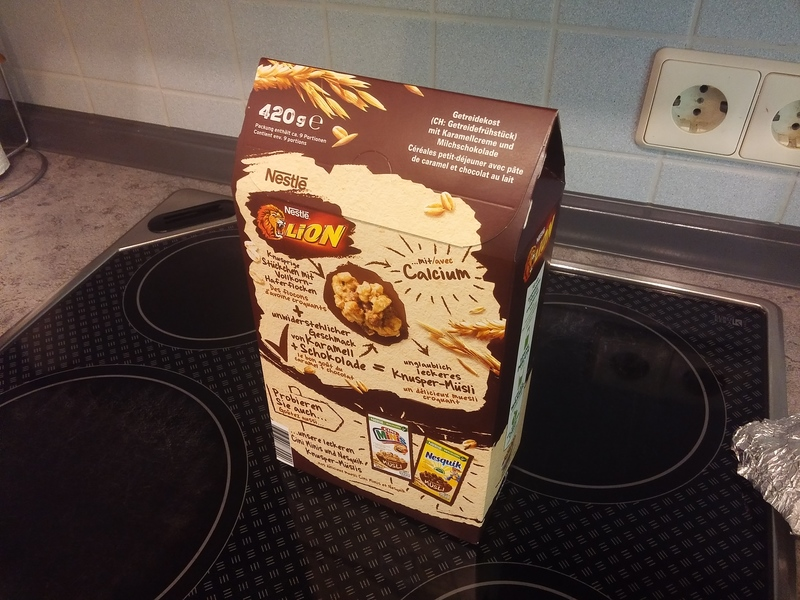cereals: (232, 56, 567, 546)
